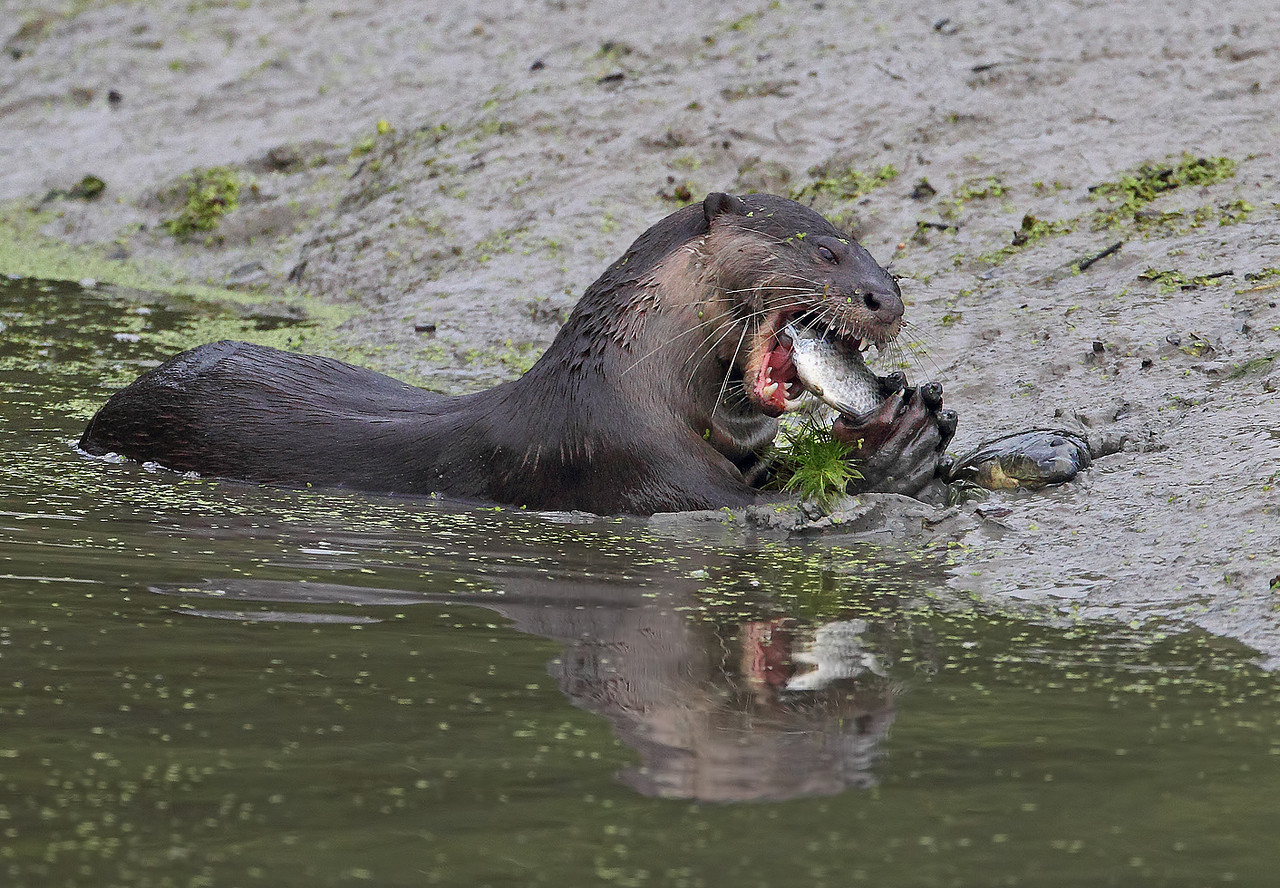otter: (73, 173, 976, 526)
